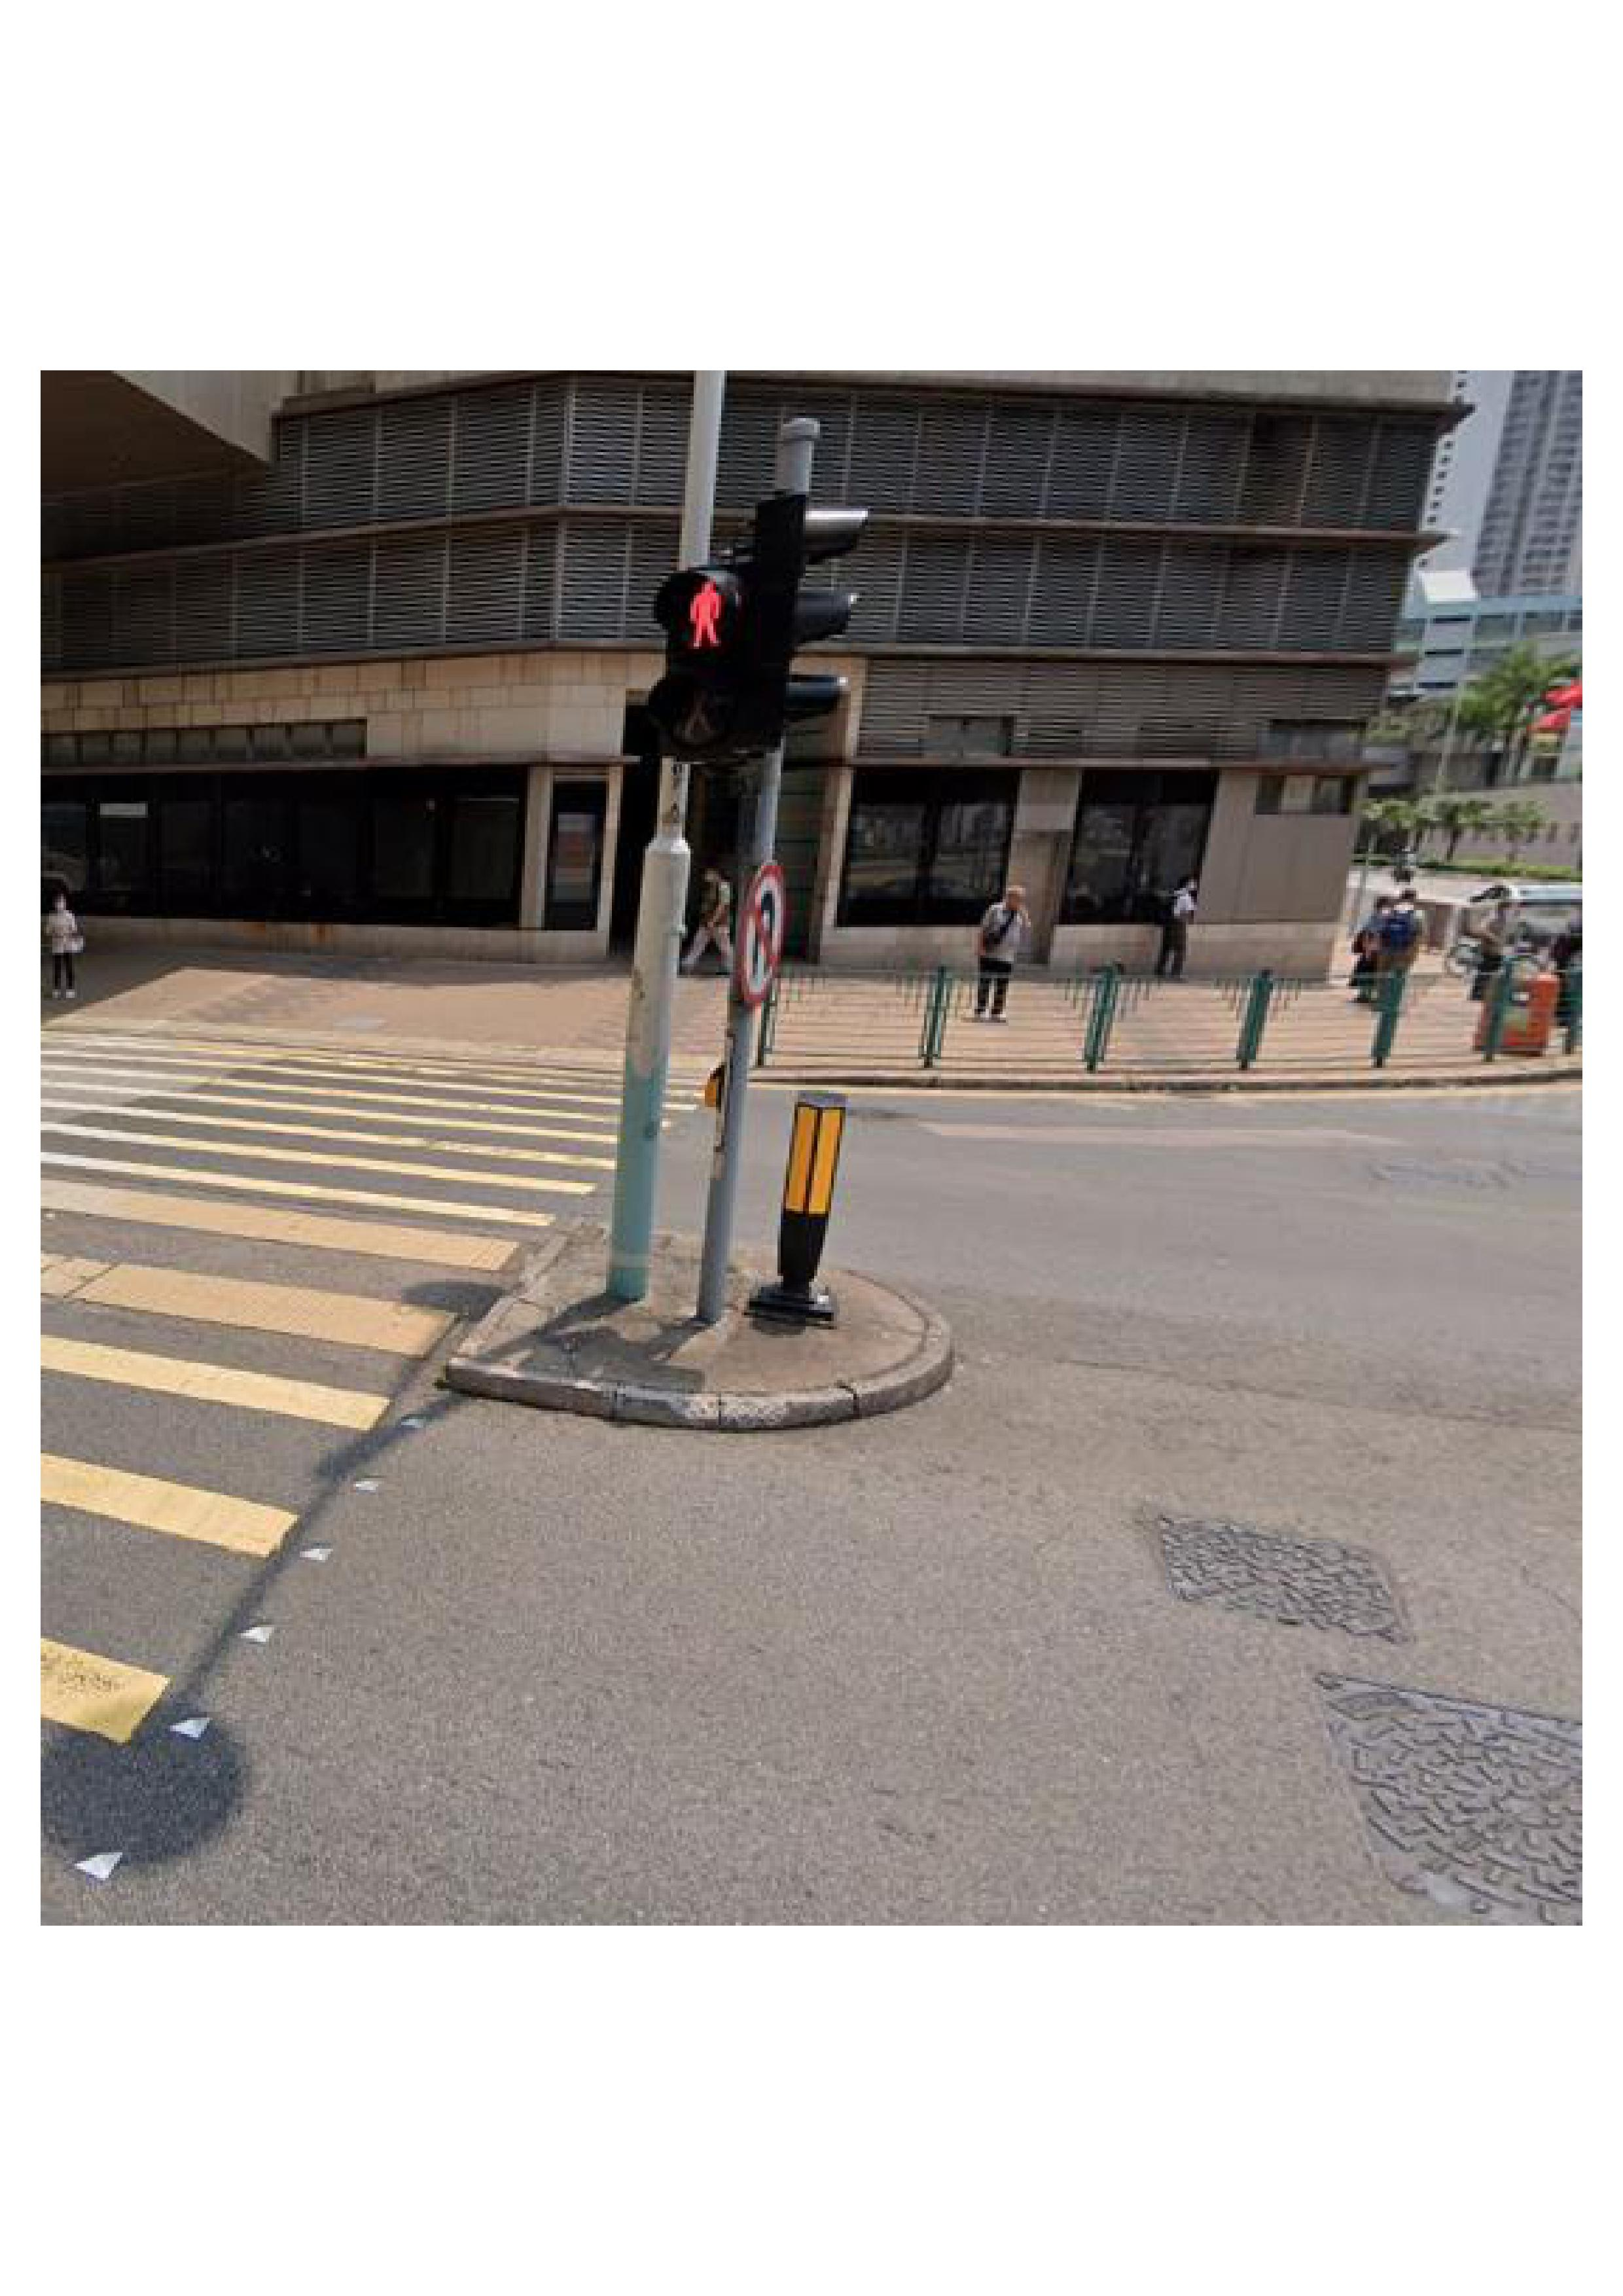No Uturn: (736, 865, 801, 1002)
